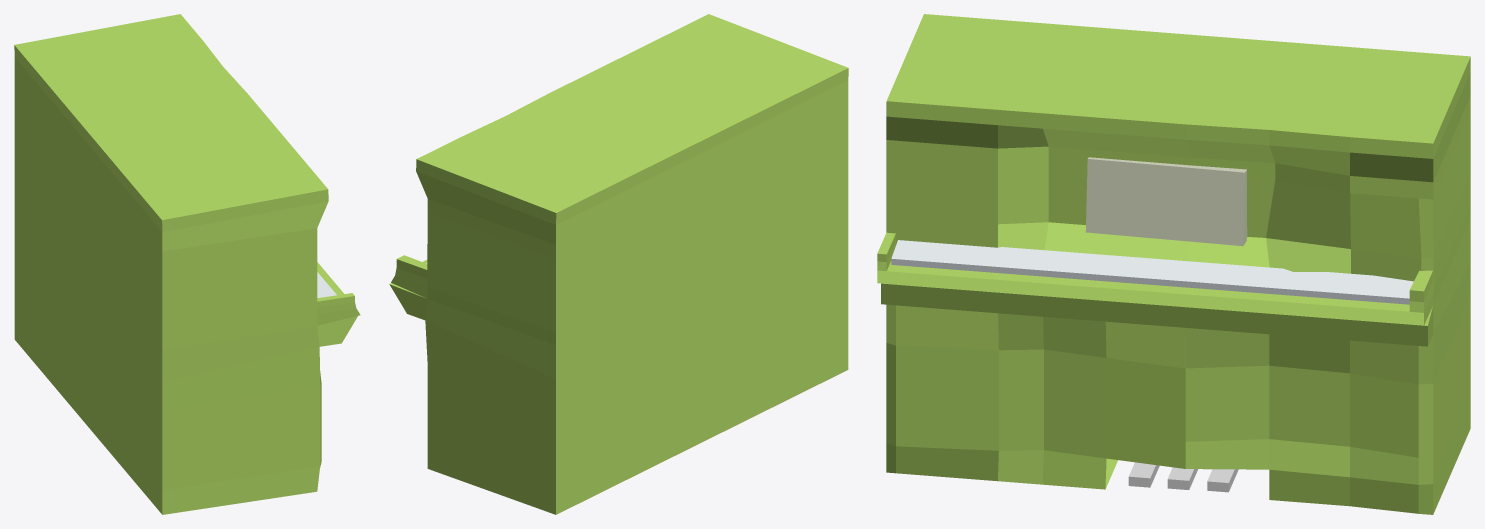
File: piano.gltf
3 renders of one model, left to right at view 1: azimuth 30°, elevation 25°; view 2: azimuth 150°, elevation 25°; view 3: azimuth 270°, elevation 25°, orthographic. The views are drawn at different scales.
Visible parts, largest first — view 1: piano; view 2: piano; view 3: piano, keys, Cube, pedals.
Boxes of the visible parts, x1=… form: piano: x1=14, y1=14, x2=360, y2=514; piano: x1=389, y1=14, x2=848, y2=514; piano: x1=877, y1=14, x2=1470, y2=514; keys: x1=891, y1=240, x2=1413, y2=304; Cube: x1=1085, y1=157, x2=1247, y2=246; pedals: x1=1128, y1=462, x2=1238, y2=492.
Bounding box in the file's own units: 10.57 × 12.15 × 17.28.
